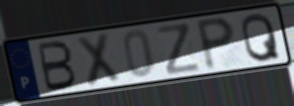0: (121, 27, 157, 81)
B: (36, 39, 79, 93)
P: (194, 15, 238, 73)
Q: (239, 11, 283, 64)
X: (74, 31, 123, 89)
Z: (155, 21, 204, 77)
